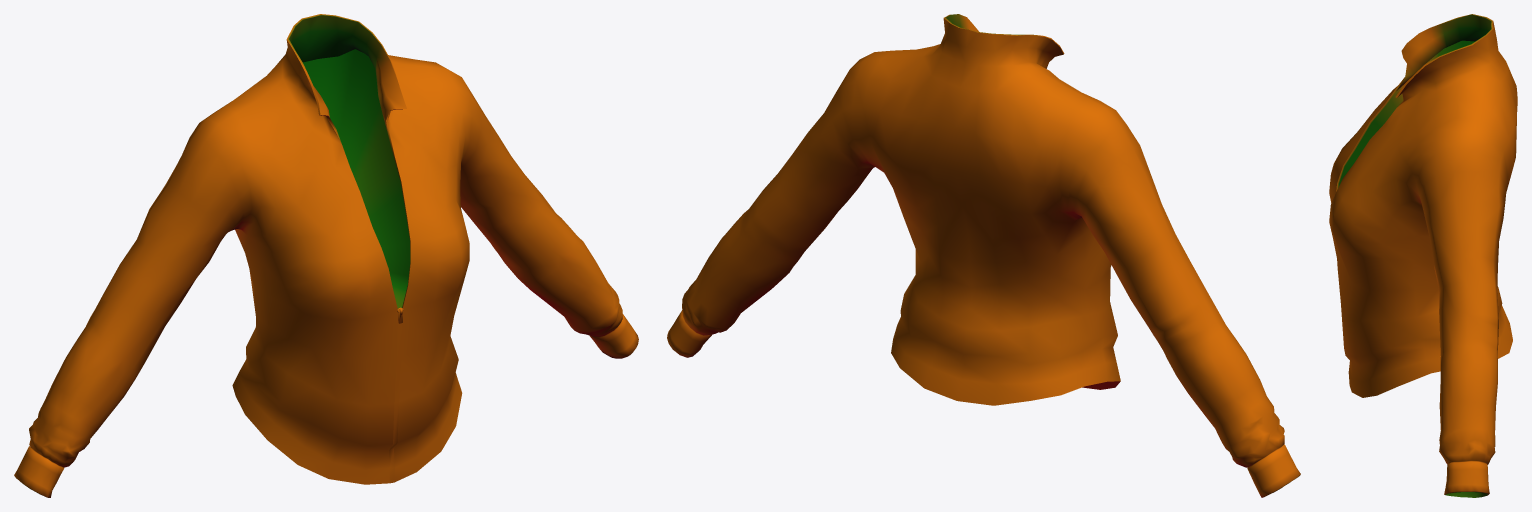
File: jaquetafem3.glb
The picture shows the model from 3 angles, left to right: view 1: azimuth 30°, elevation 25°; view 2: azimuth 150°, elevation 25°; view 3: azimuth 270°, elevation 25°; orthographic projection. The views are drawn at different scales.
Visible parts, largest first — view 1: hash_69BC6BA2.model; view 2: hash_69BC6BA2.model; view 3: hash_69BC6BA2.model.
Boxes of the visible parts, <box> form: hash_69BC6BA2.model: <box>14,14,638,497</box>; hash_69BC6BA2.model: <box>667,14,1300,497</box>; hash_69BC6BA2.model: <box>1329,14,1517,497</box>.
Size of the model in its own units: 1.05 by 0.665 by 0.3159.
